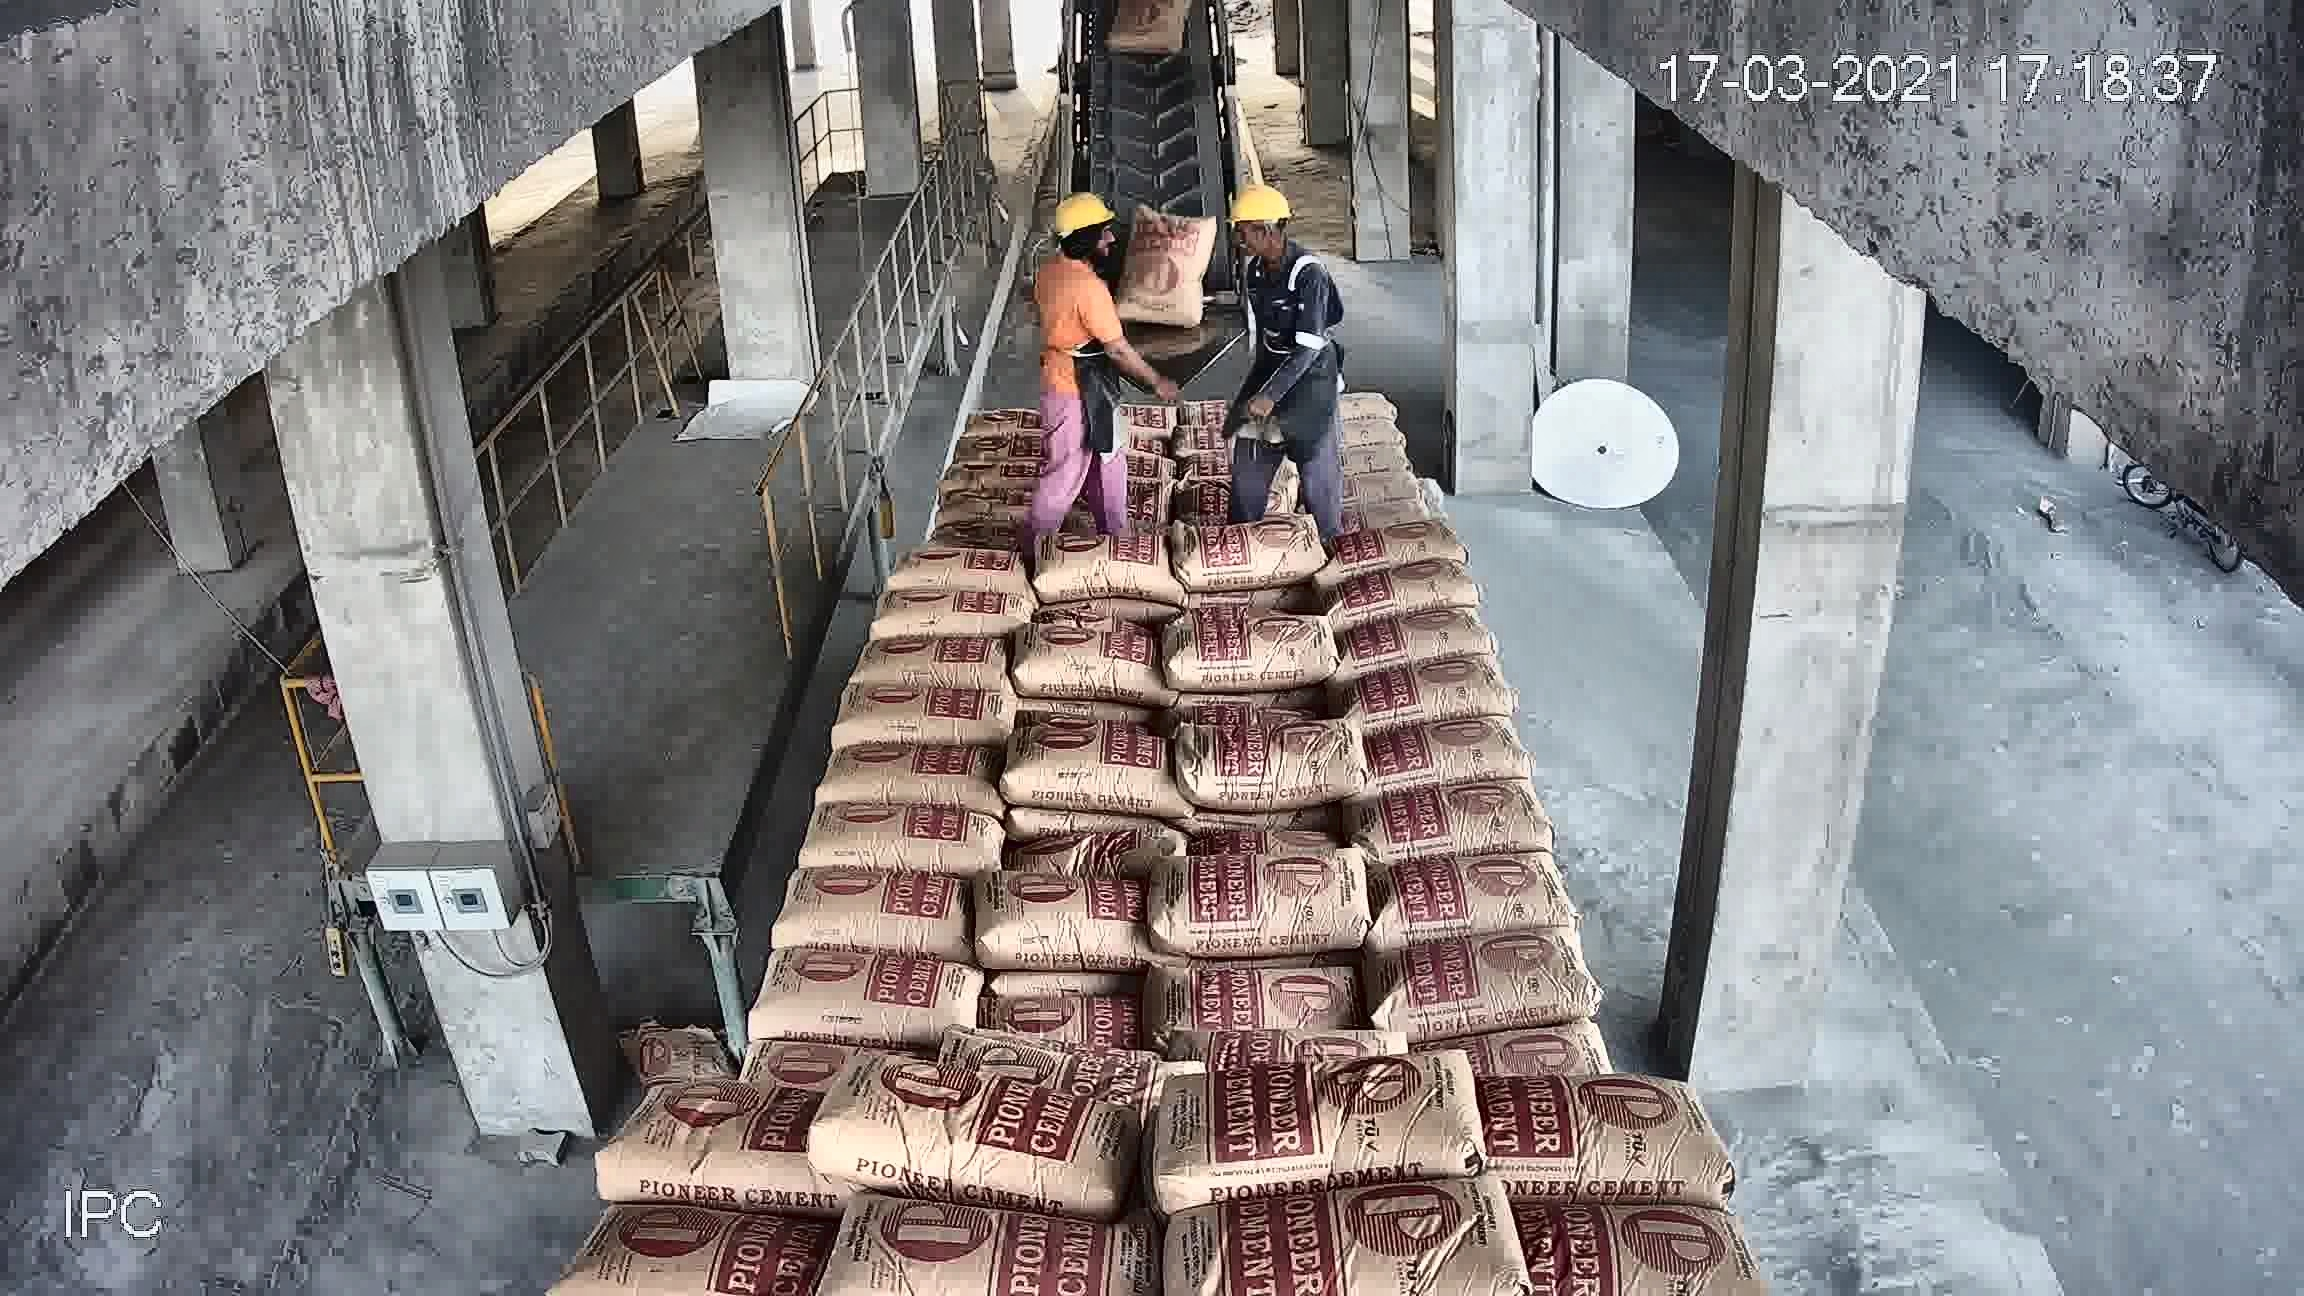bag: (1120, 203, 1211, 326)
bag_h: (1138, 1059, 1492, 1192), (813, 1065, 1152, 1196), (1468, 1074, 1741, 1201), (1372, 926, 1635, 1033), (1143, 839, 1378, 951), (581, 1086, 805, 1192), (779, 843, 989, 956), (739, 959, 997, 1044), (1369, 850, 1590, 945), (788, 791, 1013, 877), (1418, 1014, 1631, 1100), (1358, 761, 1563, 847), (1184, 723, 1378, 812), (972, 872, 1158, 962), (796, 745, 1006, 820), (997, 723, 1169, 813), (1163, 608, 1339, 693), (946, 1040, 1215, 1095), (1348, 709, 1546, 783), (1166, 1011, 1410, 1071), (1154, 962, 1367, 1029), (1180, 498, 1320, 592), (828, 685, 1036, 745), (859, 579, 1044, 646), (1027, 617, 1171, 703), (1340, 657, 1524, 722), (1342, 600, 1503, 673), (1036, 525, 1179, 604), (840, 635, 1025, 688), (999, 821, 1184, 873), (881, 532, 1044, 587), (1342, 559, 1472, 623), (992, 984, 1135, 1036), (1321, 524, 1465, 574), (1166, 472, 1290, 524), (930, 492, 1040, 535), (1343, 478, 1442, 524), (929, 464, 1052, 498), (949, 400, 1044, 438), (1329, 385, 1404, 424), (1337, 453, 1431, 483), (954, 435, 1036, 465), (1342, 418, 1423, 446)
belt: (1060, 5, 1244, 345)
